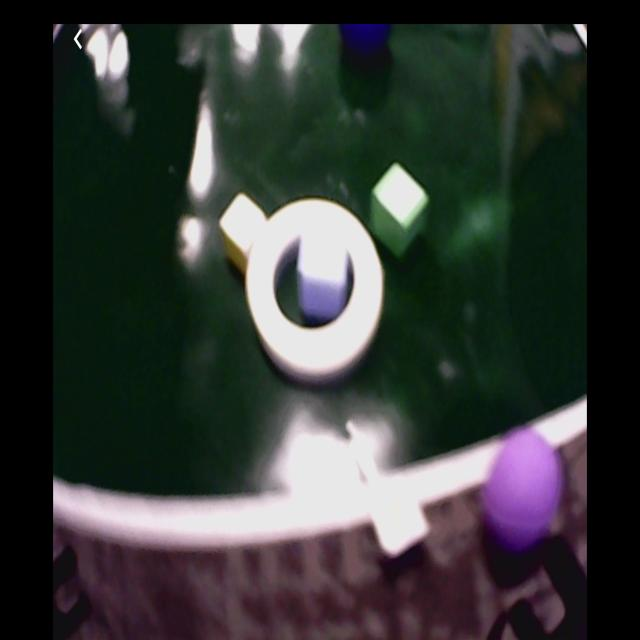ball: (487, 430, 560, 550), (337, 26, 393, 48)
